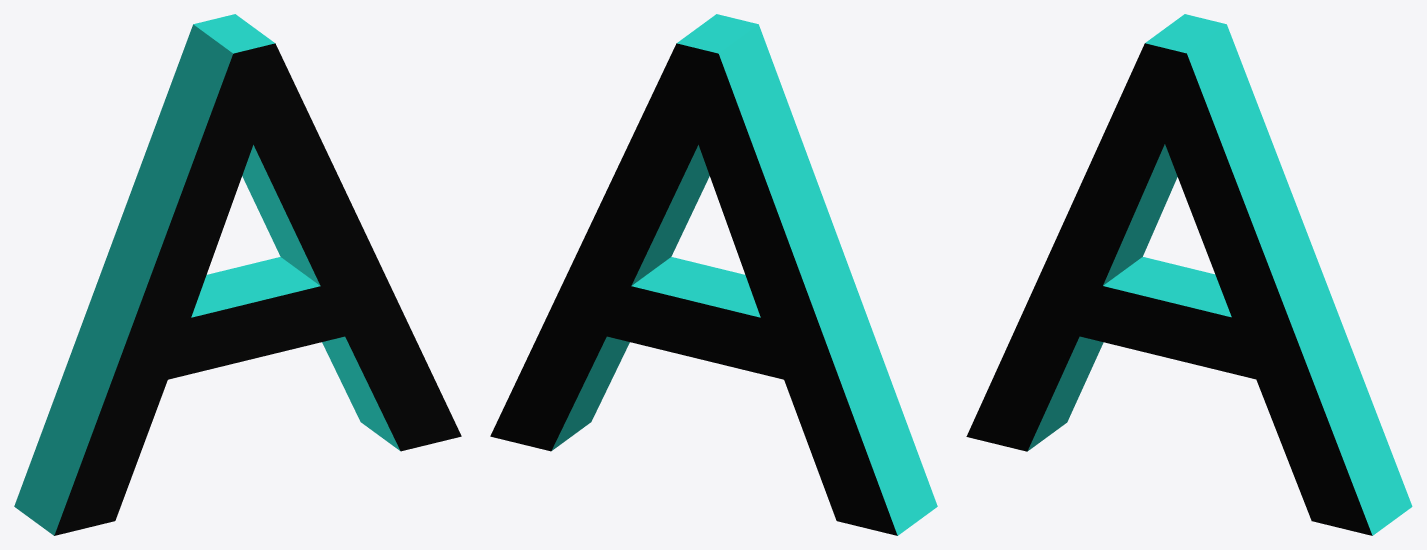
File: res.gltf
The picture shows the model from 3 angles, left to right: view 1: azimuth 30°, elevation 25°; view 2: azimuth 150°, elevation 25°; view 3: azimuth 330°, elevation 25°; orthographic projection.
Visible parts, largest first — view 1: Text; view 2: Text; view 3: Text.
Part boxes in pixels (bbox=[...]): Text: bbox=[14, 14, 461, 535]; Text: bbox=[490, 14, 937, 535]; Text: bbox=[966, 14, 1412, 535].
Size of the model in its own units: 0.667 by 0.686 by 0.1137.
